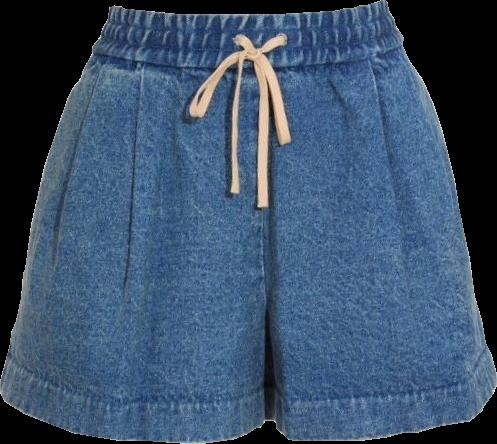Hemline: (0, 388, 269, 443), (272, 387, 496, 443)
Pantleg: (0, 6, 268, 442), (263, 0, 496, 440)
Waistline: (90, 41, 404, 75), (112, 0, 385, 18)
